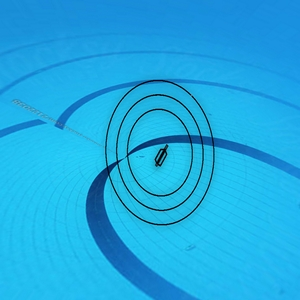submarine: (153, 145, 169, 168)
